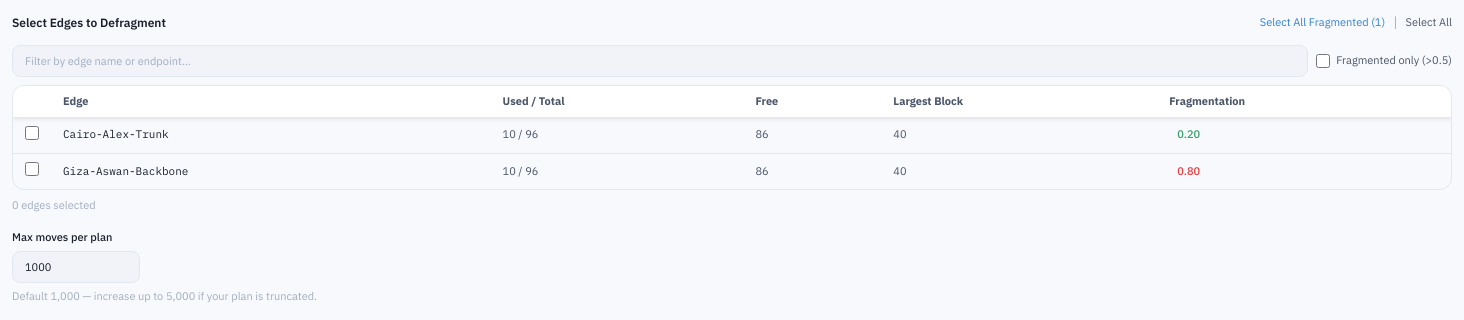
Test case: DefragWizardSelect — search & filter › filters rows by edge name substring
Type "Cairo" into the search field with test id "defrag-select-filter" at (660, 61), box x1=12 y1=45 x2=1308 y2=77
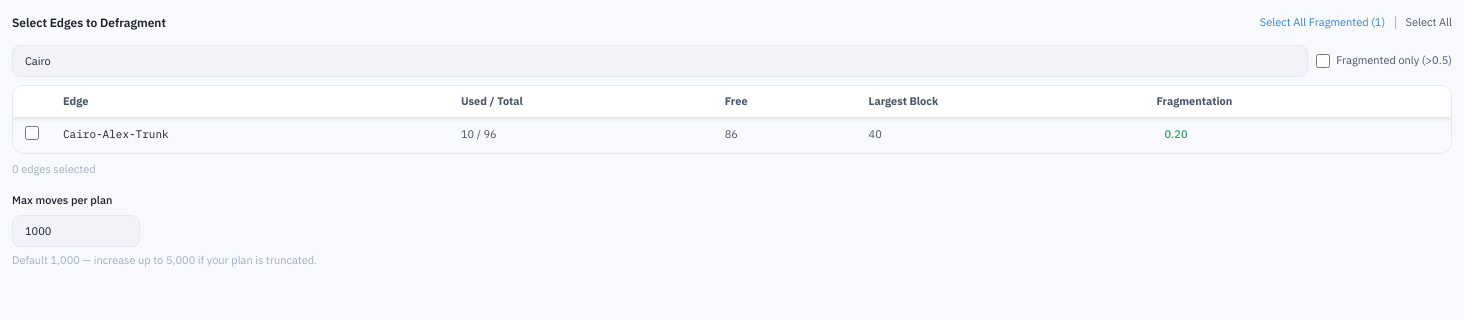
Expected: the text "Cairo-Alex-Trunk" is shown, x1=51 y1=117 x2=449 y2=153
Expected: the text "Giza-Aswan-Backbone" is gone
